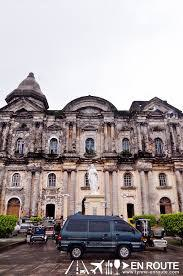taal_basilica_church_taal_batangas: (2, 71, 183, 228)
